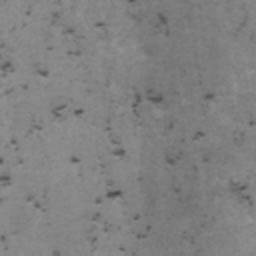Oxide scale of temperature system: (0, 0, 253, 256), (247, 119, 255, 127)
